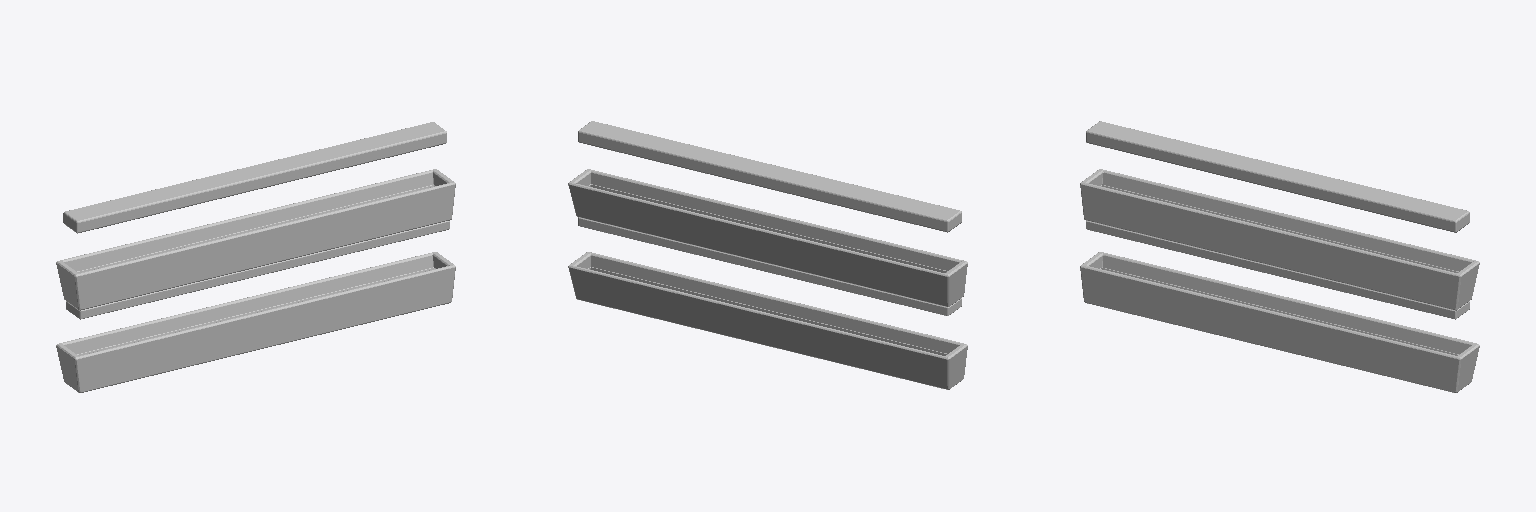
The model's file is bak taneman 3.obj.
3 views of the same model, side by side, from view 1: azimuth 30°, elevation 25°; view 2: azimuth 150°, elevation 25°; view 3: azimuth 330°, elevation 25° (orthographic).
Parts seen in each view (by area): view 1: pCube84 polySurface21, pCube83, polySurface23 pCube84, pCube84 polySurface22; view 2: pCube84 polySurface21, pCube83, polySurface23 pCube84, pCube84 polySurface22; view 3: pCube84 polySurface21, pCube83, polySurface23 pCube84, pCube84 polySurface22.
Part boxes in pixels (bbox=[...]): pCube84 polySurface21: bbox=[56, 169, 455, 310]; pCube83: bbox=[56, 252, 455, 392]; polySurface23 pCube84: bbox=[63, 122, 446, 233]; pCube84 polySurface22: bbox=[66, 221, 449, 319]; pCube84 polySurface21: bbox=[568, 169, 967, 306]; pCube83: bbox=[568, 252, 967, 389]; polySurface23 pCube84: bbox=[578, 121, 961, 232]; pCube84 polySurface22: bbox=[578, 217, 961, 315]; pCube84 polySurface21: bbox=[1080, 169, 1479, 310]; pCube83: bbox=[1080, 252, 1479, 392]; polySurface23 pCube84: bbox=[1086, 121, 1469, 232]; pCube84 polySurface22: bbox=[1086, 221, 1469, 319].
Size of the model in its own units: 10.82 by 4.63 by 0.9895.